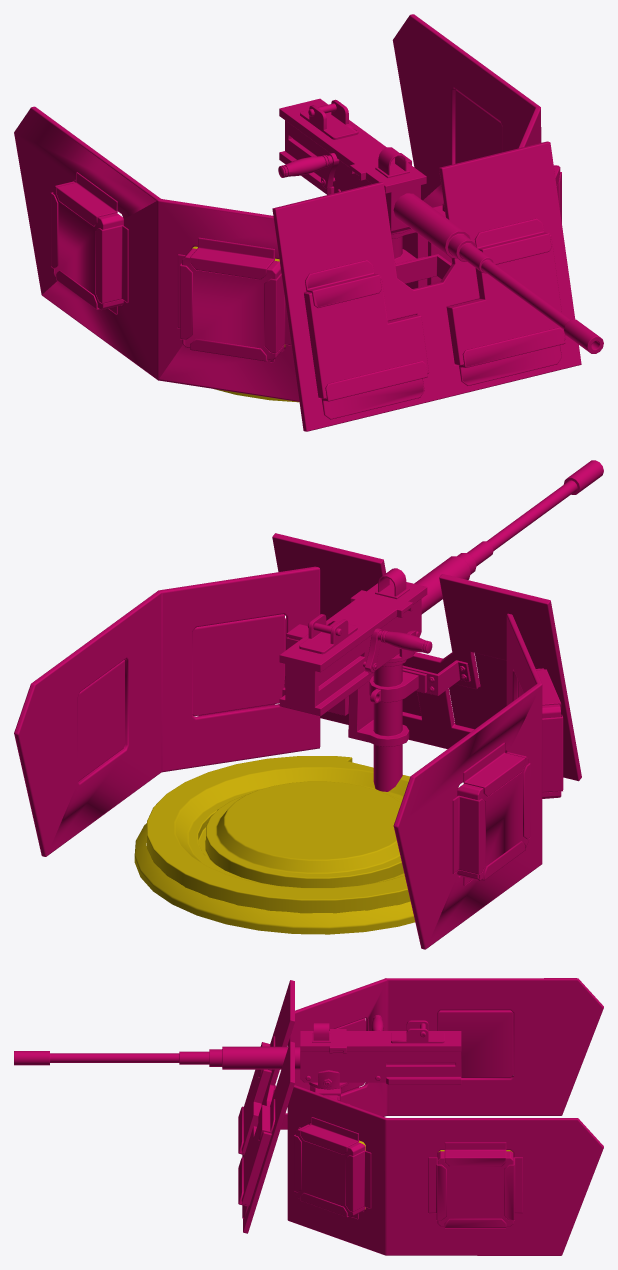
File: puxa.fbx
3 renders of one model, top to bottom at view 1: azimuth 30°, elevation 25°; view 2: azimuth 150°, elevation 25°; view 3: azimuth 270°, elevation 25°, orthographic. The views are drawn at different scales.
Parts seen in each view (by area): view 1: Machine_Gun.009; view 2: Machine_Gun.009; view 3: Machine_Gun.009.
Part boxes in pixels (box(x1,y1,x2,y2)): Machine_Gun.009: box(14, 14, 603, 431); Machine_Gun.009: box(14, 460, 603, 949); Machine_Gun.009: box(14, 978, 603, 1255).
Bounding box in the file's own units: 153 × 49.65 × 96.83.
